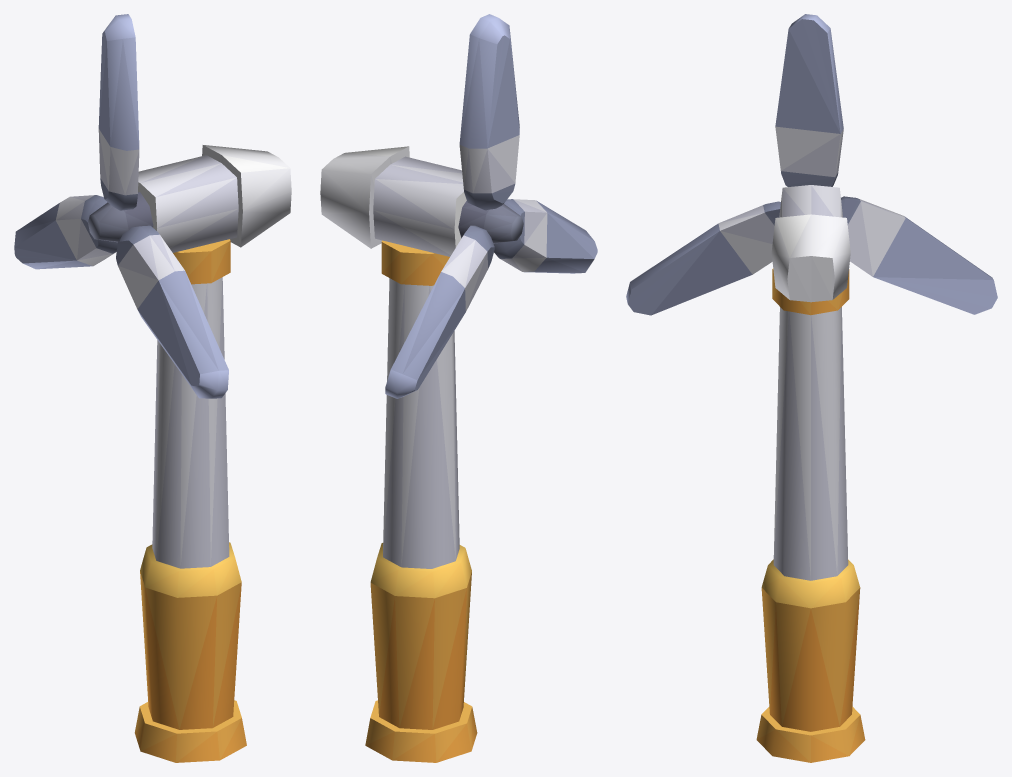
File: windmill.obj
3 renders of one model, left to right at view 1: azimuth 30°, elevation 25°; view 2: azimuth 150°, elevation 25°; view 3: azimuth 270°, elevation 25°, orthographic. The views are drawn at different scales.
Size of the model in its own units: 0.6047 by 2.31 by 1.13.
